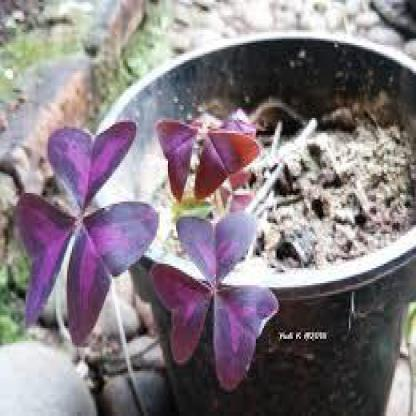Kupu-Kupu: (25, 151, 121, 312), (169, 224, 268, 370), (145, 123, 249, 179)
